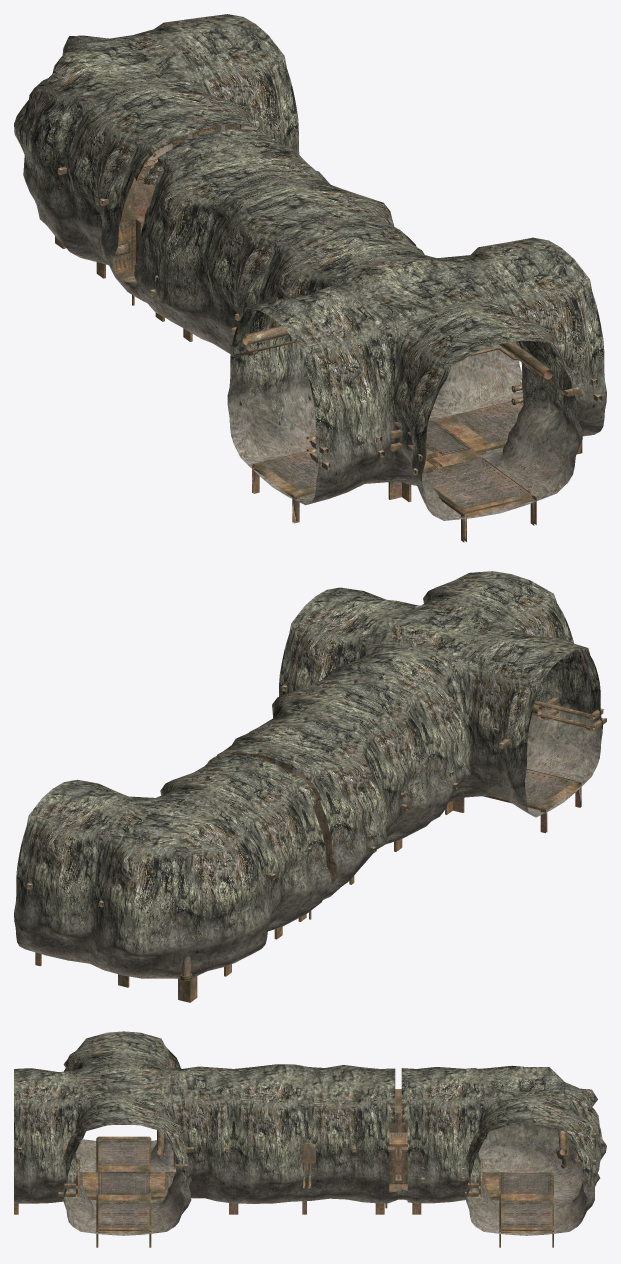
Rendered from poi_all_bunker_mad_bio_s01_r20_intersection4_mesh_r20.fbx.
3 views of the same model, one above another, from view 1: azimuth 30°, elevation 25°; view 2: azimuth 150°, elevation 25°; view 3: azimuth 270°, elevation 25° (orthographic). The views are drawn at different scales.
Visible parts, largest first — view 1: mesh_node; view 2: mesh_node; view 3: mesh_node.
Boxes of the visible parts, x1=… form: mesh_node: x1=14, y1=14, x2=606, y2=542; mesh_node: x1=14, y1=571, x2=606, y2=1002; mesh_node: x1=14, y1=1031, x2=606, y2=1247.
Size of the model in its own units: 12 by 7.77 by 32.39.
